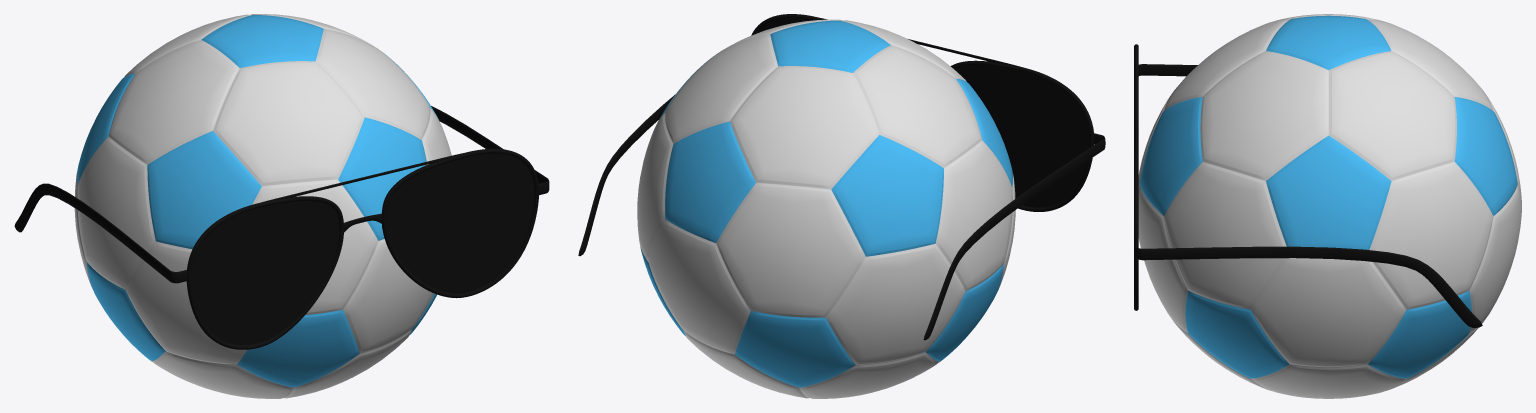
The model's file is Balonarg.glb.
3 views of the same model, side by side, from view 1: azimuth 30°, elevation 25°; view 2: azimuth 150°, elevation 25°; view 3: azimuth 270°, elevation 25° (orthographic).
Parts seen in each view (by area): view 1: Esfera geodésica, Círculo Bezier, Círculo Bezier.001, Cubo.002, Cubo.003, Cubo.001; view 2: Esfera geodésica, Círculo Bezier, Cubo.002, Cubo.003, Círculo Bezier.001; view 3: Esfera geodésica, Cubo.003, Círculo Bezier.001, Cubo.002, Círculo Bezier.
Part boxes in pixels (left/top/right/bottom): Esfera geodésica: left=74, top=14, right=451, bottom=398; Círculo Bezier: left=186, top=196, right=343, bottom=349; Círculo Bezier.001: left=381, top=148, right=538, bottom=298; Cubo.002: left=14, top=183, right=187, bottom=283; Cubo.003: left=431, top=106, right=549, bottom=195; Cubo.001: left=252, top=151, right=473, bottom=205; Esfera geodésica: left=637, top=19, right=1015, bottom=398; Círculo Bezier: left=950, top=60, right=1094, bottom=211; Cubo.002: left=923, top=133, right=1105, bottom=340; Cubo.003: left=578, top=95, right=674, bottom=256; Círculo Bezier.001: left=751, top=14, right=823, bottom=35; Esfera geodésica: left=1138, top=14, right=1521, bottom=398; Cubo.003: left=1135, top=243, right=1482, bottom=327; Círculo Bezier.001: left=1134, top=137, right=1138, bottom=310; Cubo.002: left=1138, top=64, right=1197, bottom=76; Círculo Bezier: left=1134, top=44, right=1138, bottom=138.
Size of the model in its own units: 2 by 1.75 by 1.76.
